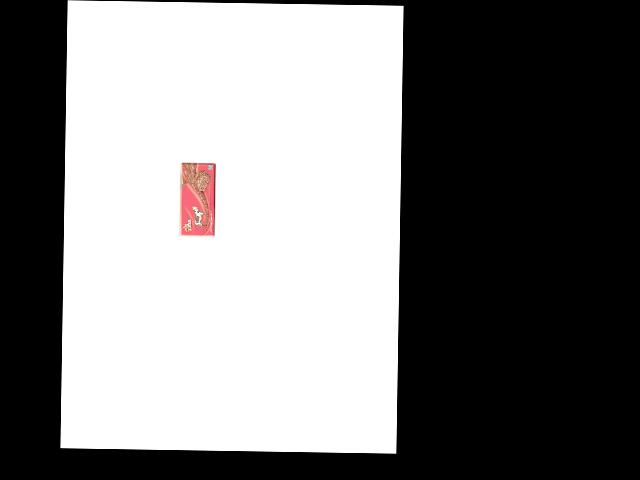chocolate: (178, 160, 219, 239)
